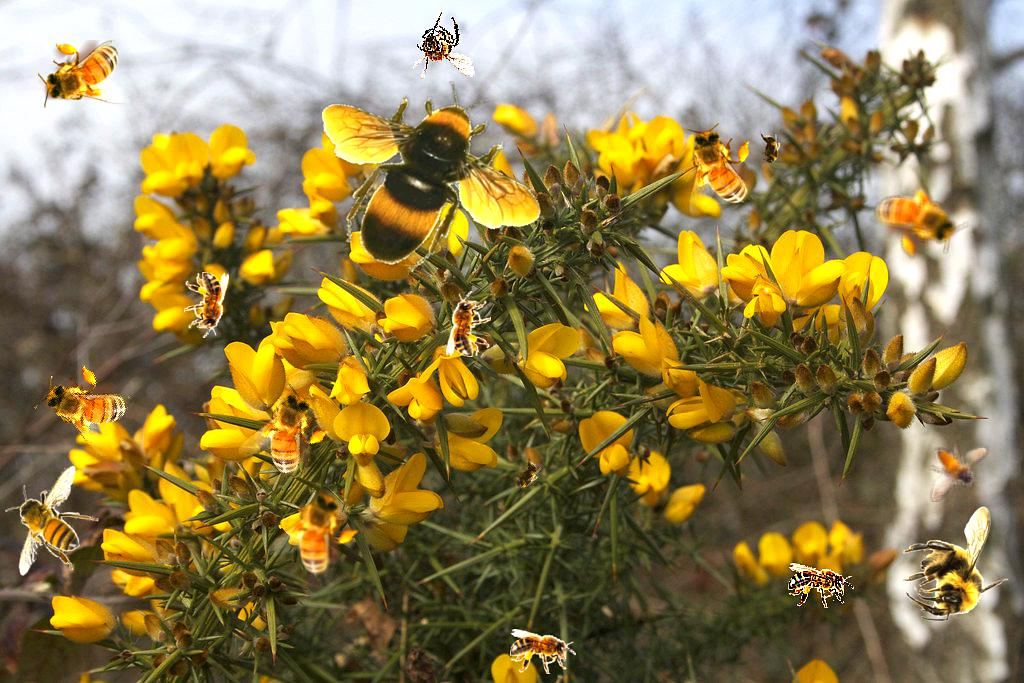Bee: (322, 81, 542, 272), (858, 159, 972, 274), (29, 350, 145, 463), (261, 476, 373, 593), (232, 376, 344, 493), (902, 506, 1009, 621), (5, 465, 99, 576), (38, 40, 131, 108), (685, 123, 753, 216), (914, 431, 1000, 504), (401, 7, 476, 89), (184, 272, 229, 338), (446, 291, 491, 357), (788, 563, 854, 608), (510, 629, 576, 674), (504, 453, 548, 499), (759, 130, 781, 170)
